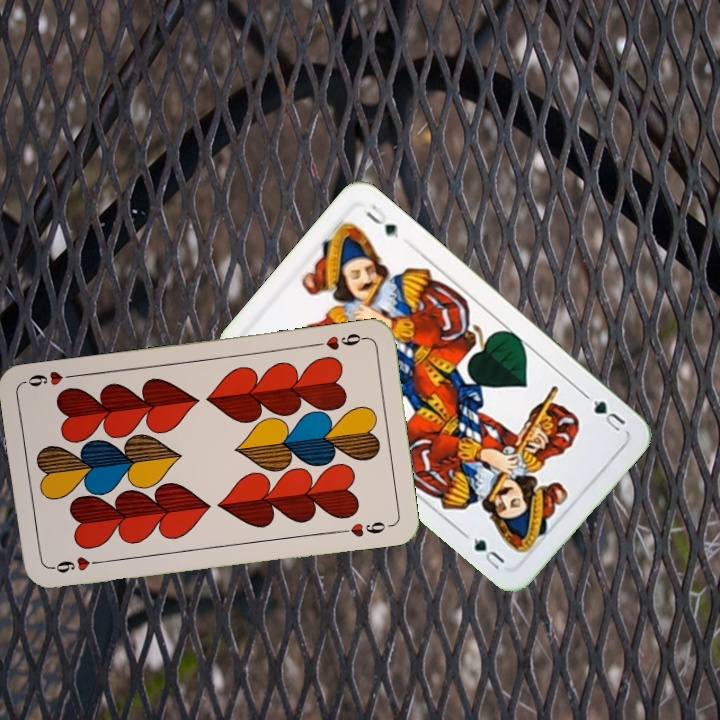GU: (589, 396, 628, 434)
H9: (46, 552, 106, 576), (310, 329, 369, 353)
